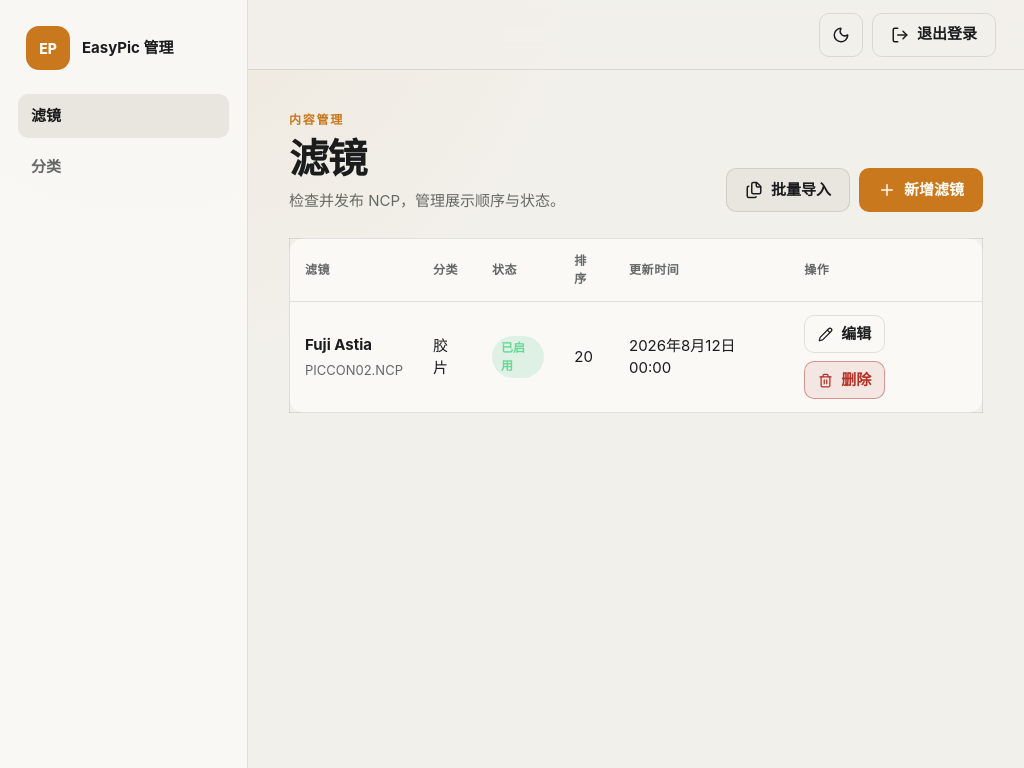
Test case: filter deletion › names the filter, cancels without DELETE, then closes, refetches, and notifies after success
Click the button "删除".
click(845, 380)  # box [804,362,885,400]
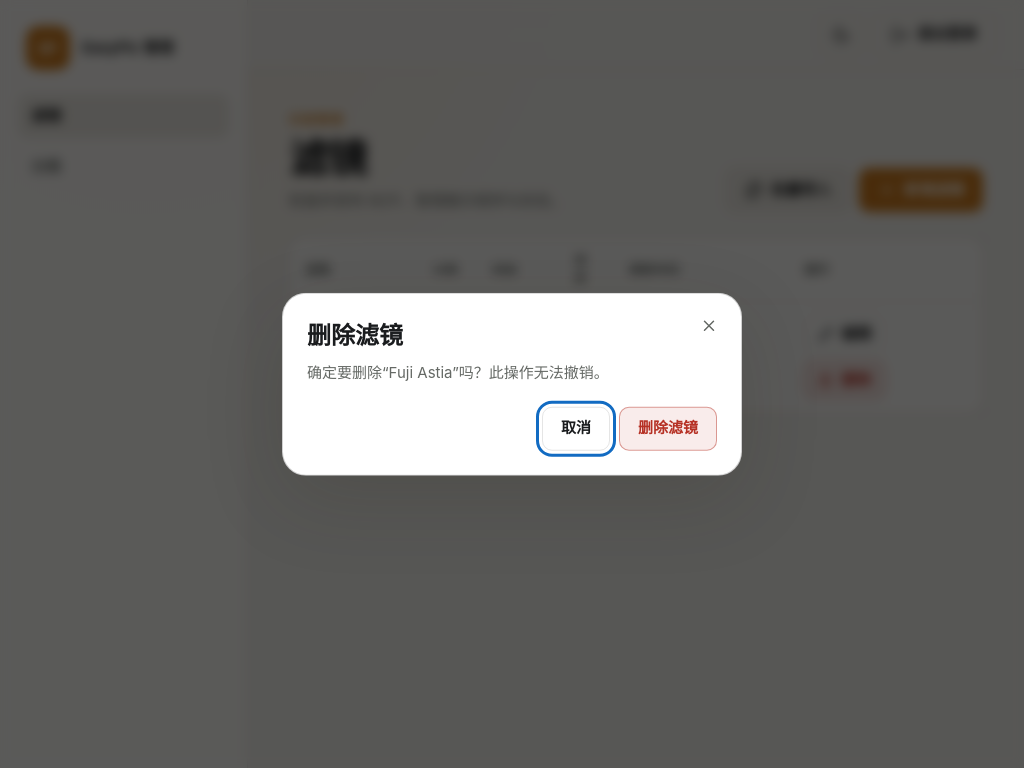
Click the button "取消".
click(576, 428)  # box [542,406,610,450]
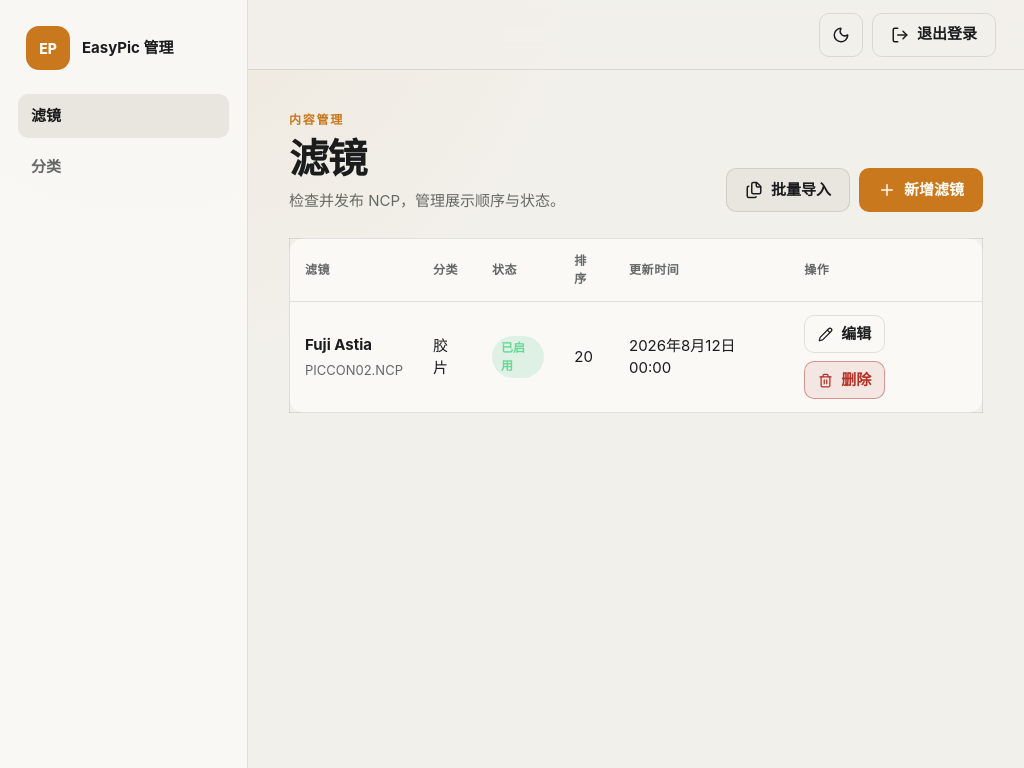
Now the heading "删除滤镜" is gone
Click the button "删除".
click(845, 380)  # box [804,362,885,400]
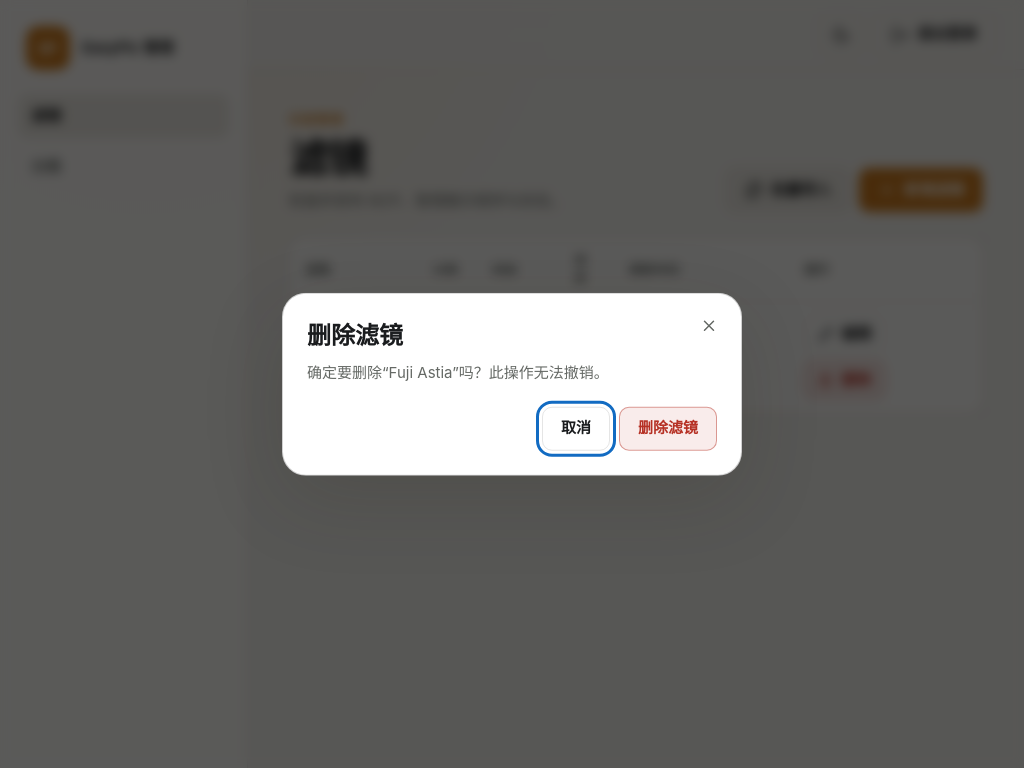
Click the button "删除滤镜".
click(668, 428)  # box [619,406,717,450]
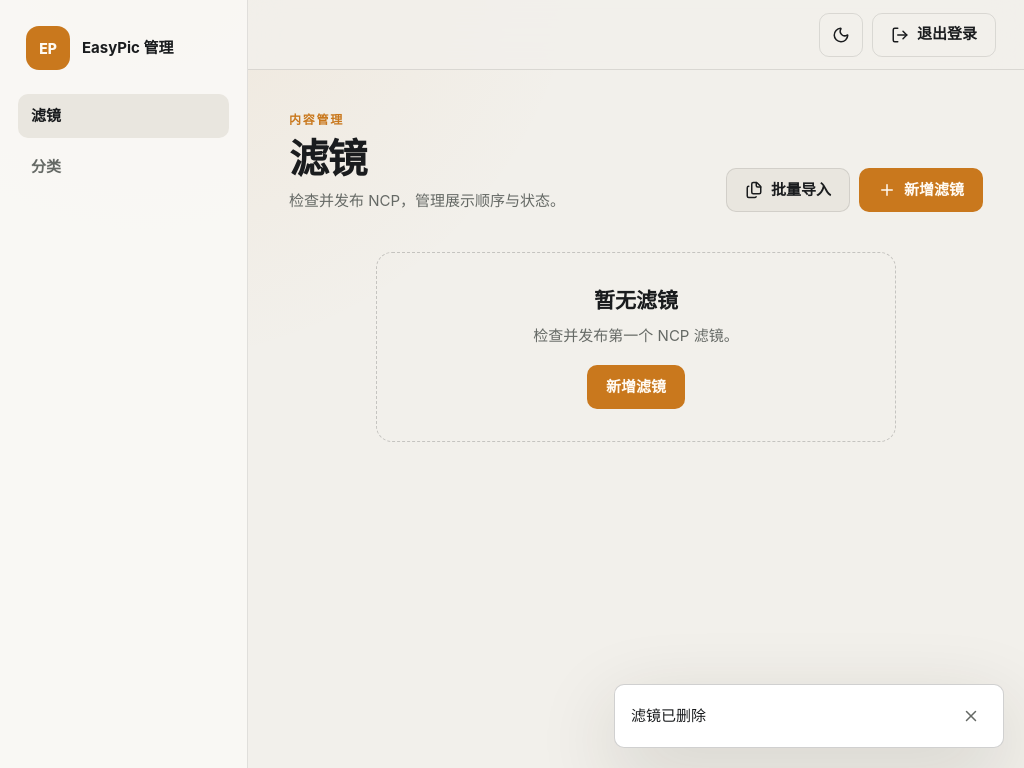
Now the text "滤镜已删除" is shown, box [631,705,706,727]
Now the heading "删除滤镜" is gone
